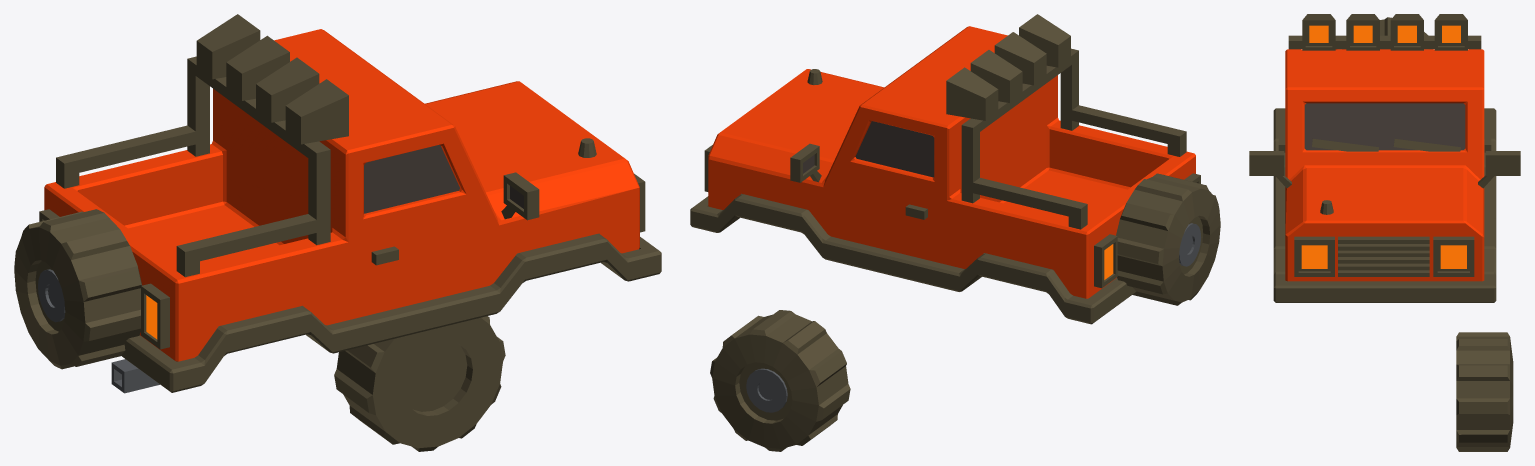
File: oldSchool-compressed.glb
3 renders of one model, left to right at view 1: azimuth 30°, elevation 25°; view 2: azimuth 150°, elevation 25°; view 3: azimuth 270°, elevation 25°, orthographic. The views are drawn at different scales.
Parts seen in each view (by area): view 1: bodyPainted, bodyBlack.002, wheel; view 2: bodyPainted, bodyBlack.002, wheel; view 3: bodyPainted, bodyBlack.002, wheel, headlights.002.
Part boxes in pixels (bbox=[...]): bodyPainted: bbox=[44, 29, 639, 361]; bodyBlack.002: bbox=[14, 14, 661, 393]; wheel: bbox=[334, 316, 505, 451]; bodyPainted: bbox=[708, 26, 1195, 298]; bodyBlack.002: bbox=[690, 14, 1220, 324]; wheel: bbox=[710, 310, 850, 451]; bodyPainted: bbox=[1285, 49, 1484, 281]; bodyBlack.002: bbox=[1249, 14, 1520, 302]; wheel: bbox=[1456, 332, 1513, 451]; headlights.002: bbox=[1301, 25, 1466, 268].
Size of the model in its own units: 3.26 by 2.75 by 1.9.
3 materials, 1 textured.
